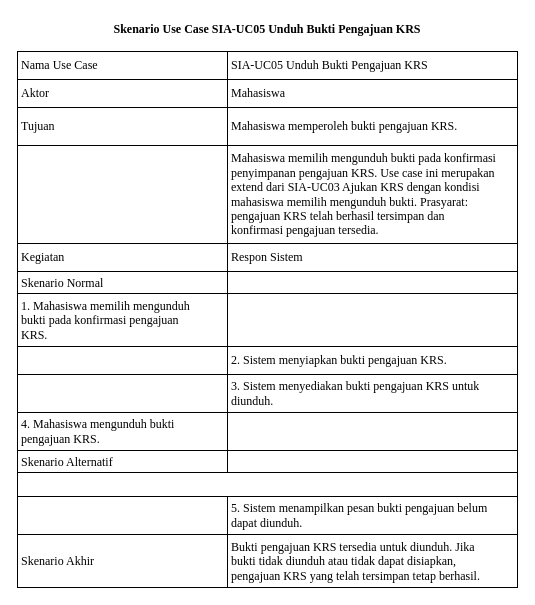
The diagram is 535 pixels wide and 605 high, and some of its shapes have lost their labels. Each missing label, with the box of its shape:
Cabang dari langkah 2: bukti pengajuan KRS tidak dapat disiapkan.: (16, 472, 518, 496)
Deskripsi: (16, 144, 228, 244)
